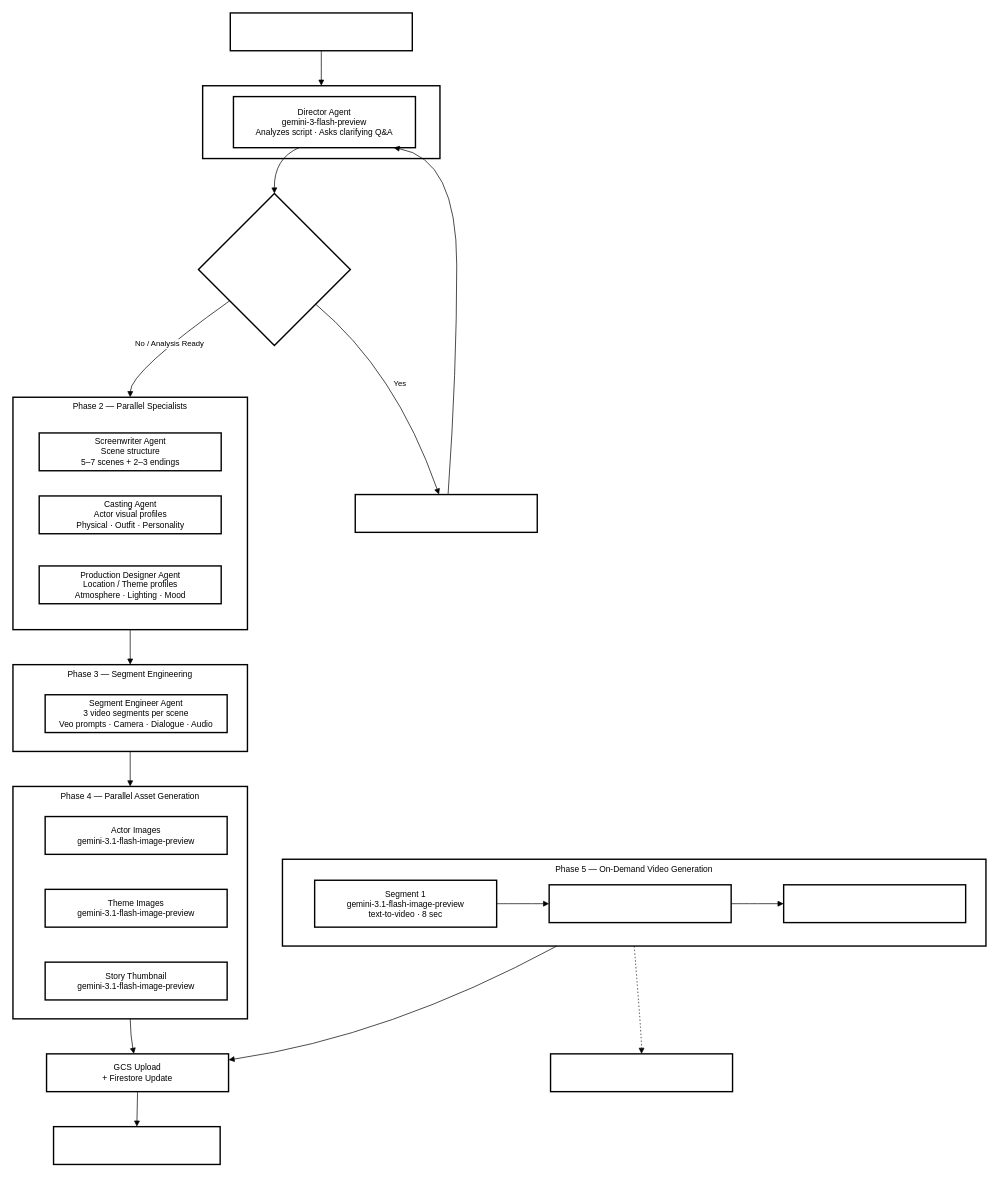
Some shapes in this 998 by 1177 pixel diagram are drawn without their labels. The shapes that lost their labels are listed below. From the top down, each one's centre as x and y in pixels, then its label:
At pixel 321 31: "Raw Script / Story Prompt".
At pixel 274 269: "Clarification Needed?".
At pixel 446 513: "User Answers (via frontend polling)".
At pixel 640 903: "Segment 2 extend-video · 8 sec".
At pixel 874 903: "Segment 3 extend-video · 8 sec".
At pixel 641 1072: "User can trigger Phase 5 per scene from the Scene Editor".
At pixel 136 1145: "Storyboard Complete".
